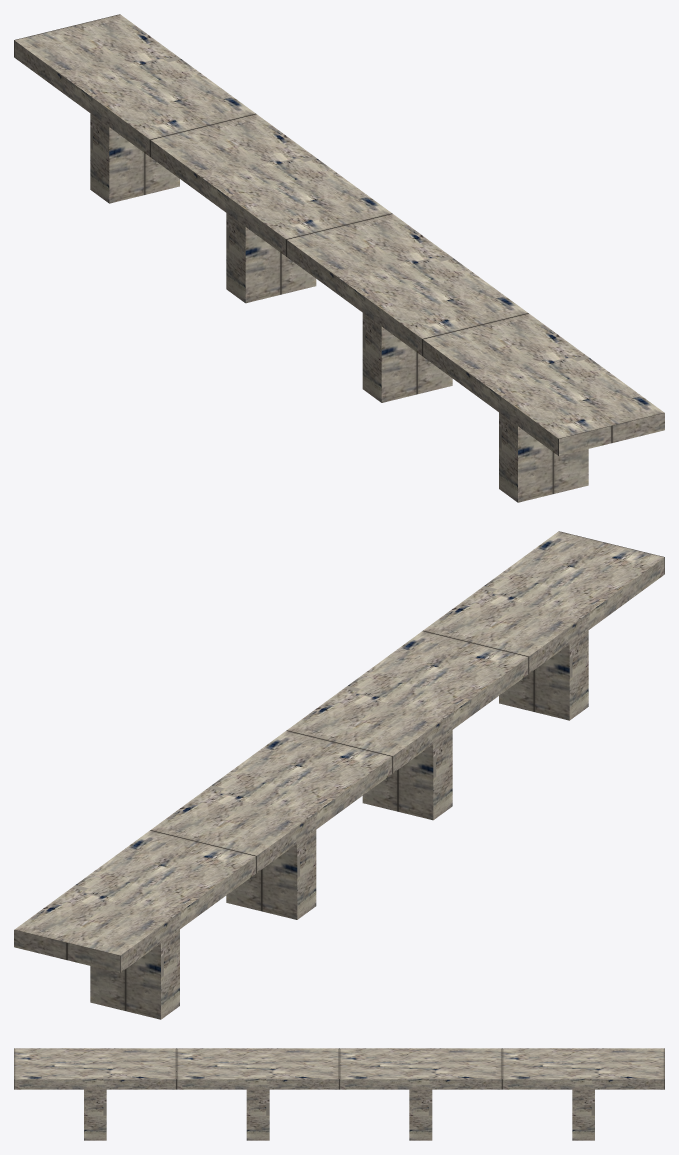
File: SM_Morin_PanchinaLunga_Mod_LOD2.fbx
3 renders of one model, top to bottom at view 1: azimuth 30°, elevation 25°; view 2: azimuth 150°, elevation 25°; view 3: azimuth 270°, elevation 25°, orthographic. The views are drawn at different scales.
Parts seen in each view (by area): view 1: SM_Morin_PanchinaLunga_Mod_LOD2; view 2: SM_Morin_PanchinaLunga_Mod_LOD2; view 3: SM_Morin_PanchinaLunga_Mod_LOD2.
Part boxes in pixels (x1=…): SM_Morin_PanchinaLunga_Mod_LOD2: x1=14, y1=14, x2=664, y2=502; SM_Morin_PanchinaLunga_Mod_LOD2: x1=14, y1=531, x2=664, y2=1019; SM_Morin_PanchinaLunga_Mod_LOD2: x1=14, y1=1048, x2=664, y2=1140.
Size of the model in its own units: 45 by 400 by 45.
1 material, 1 textured.
